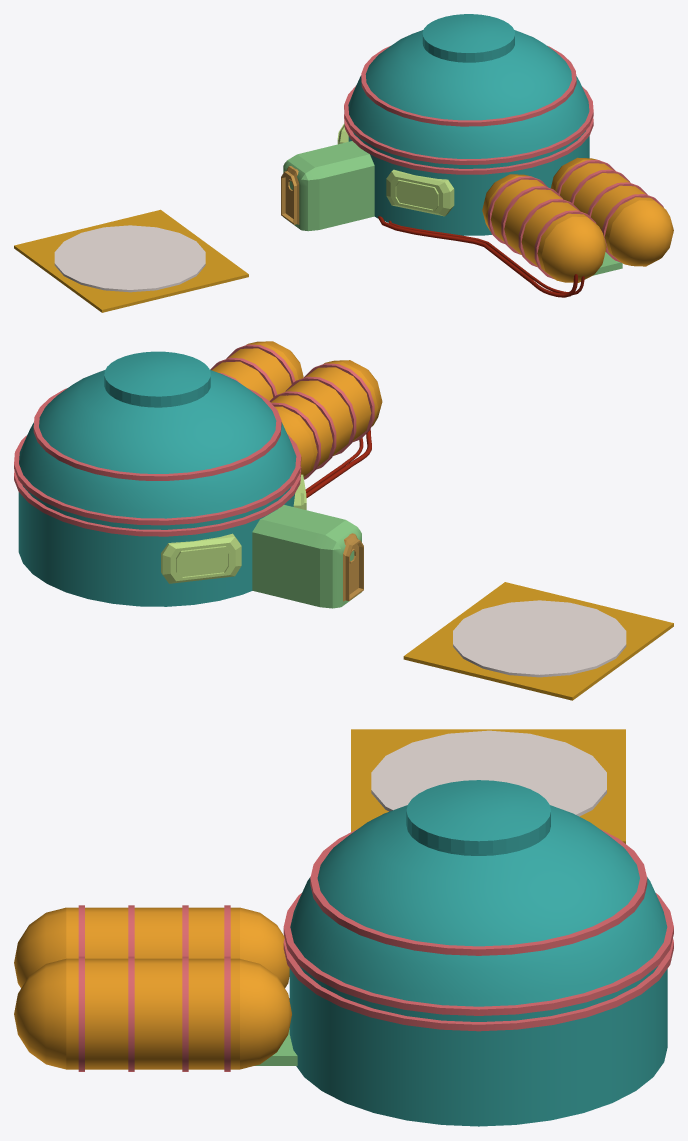
3 renders of one model, top to bottom at view 1: azimuth 30°, elevation 25°; view 2: azimuth 150°, elevation 25°; view 3: azimuth 270°, elevation 25°, orthographic. The views are drawn at different scales.
Visible parts, largest first — view 1: Cylinder001, Cylinder002, OilTank001, OilTank002, Box001, Box002, Plane002, Tube009, Tube011, Tube010, Line002, Plane001 (+3 smaller); view 2: Cylinder001, Cylinder002, Box001, Box002, OilTank001, Plane003, Tube009, OilTank002, Tube011, Tube010, Plane001, Tube007 (+2 smaller); view 3: Cylinder001, OilTank002, OilTank001, Cylinder002, Box002, Tube009, Tube011, Tube010, Tube001, Tube002, Tube004, Tube003 (+1 smaller).
Boxes of the visible parts, bbox=[...] form: Cylinder001: bbox=[348, 14, 589, 235]; Cylinder002: bbox=[54, 225, 205, 292]; OilTank001: bbox=[482, 174, 606, 282]; OilTank002: bbox=[550, 157, 673, 266]; Box001: bbox=[283, 141, 374, 231]; Box002: bbox=[14, 209, 248, 312]; Plane002: bbox=[386, 169, 454, 216]; Tube009: bbox=[344, 85, 593, 164]; Tube011: bbox=[361, 45, 576, 126]; Tube010: bbox=[344, 114, 593, 174]; Line002: bbox=[378, 216, 577, 297]; Plane001: bbox=[281, 166, 299, 224]; Cylinder001: bbox=[18, 351, 296, 606]; Cylinder002: bbox=[453, 600, 626, 677]; Box001: bbox=[252, 505, 361, 608]; Box002: bbox=[403, 582, 673, 700]; OilTank001: bbox=[271, 360, 382, 476]; Plane003: bbox=[161, 533, 241, 583]; Tube009: bbox=[14, 434, 301, 525]; OilTank002: bbox=[212, 341, 303, 400]; Tube011: bbox=[33, 388, 281, 480]; Tube010: bbox=[14, 466, 301, 536]; Plane001: bbox=[343, 533, 363, 601]; Tube007: bbox=[304, 363, 374, 442]; Cylinder001: bbox=[289, 780, 667, 1126]; OilTank002: bbox=[14, 958, 291, 1069]; OilTank001: bbox=[14, 907, 289, 988]; Cylinder002: bbox=[371, 730, 606, 816]; Box002: bbox=[351, 729, 625, 843]; Tube009: bbox=[283, 893, 673, 1015]; Tube011: bbox=[310, 829, 647, 955]; Tube010: bbox=[283, 938, 673, 1031]; Tube001: bbox=[224, 956, 230, 1071]; Tube002: bbox=[182, 956, 188, 1071]; Tube004: bbox=[128, 956, 134, 1071]; Tube003: bbox=[78, 956, 84, 1071].
Size of the model in its own units: 568 by 166 by 403.
